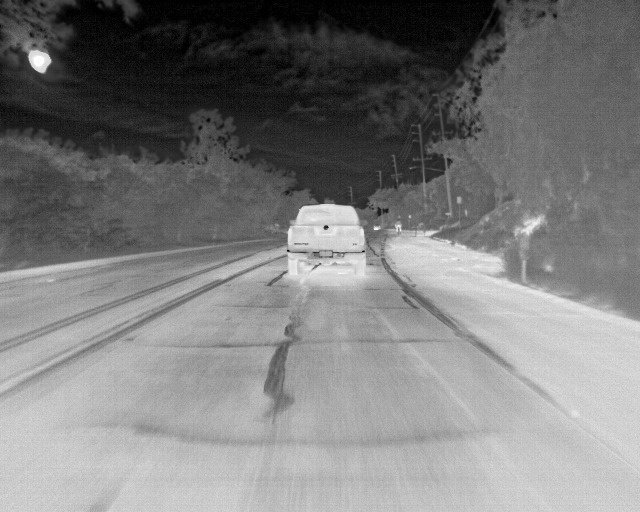vehicle: (288, 203, 369, 270)
